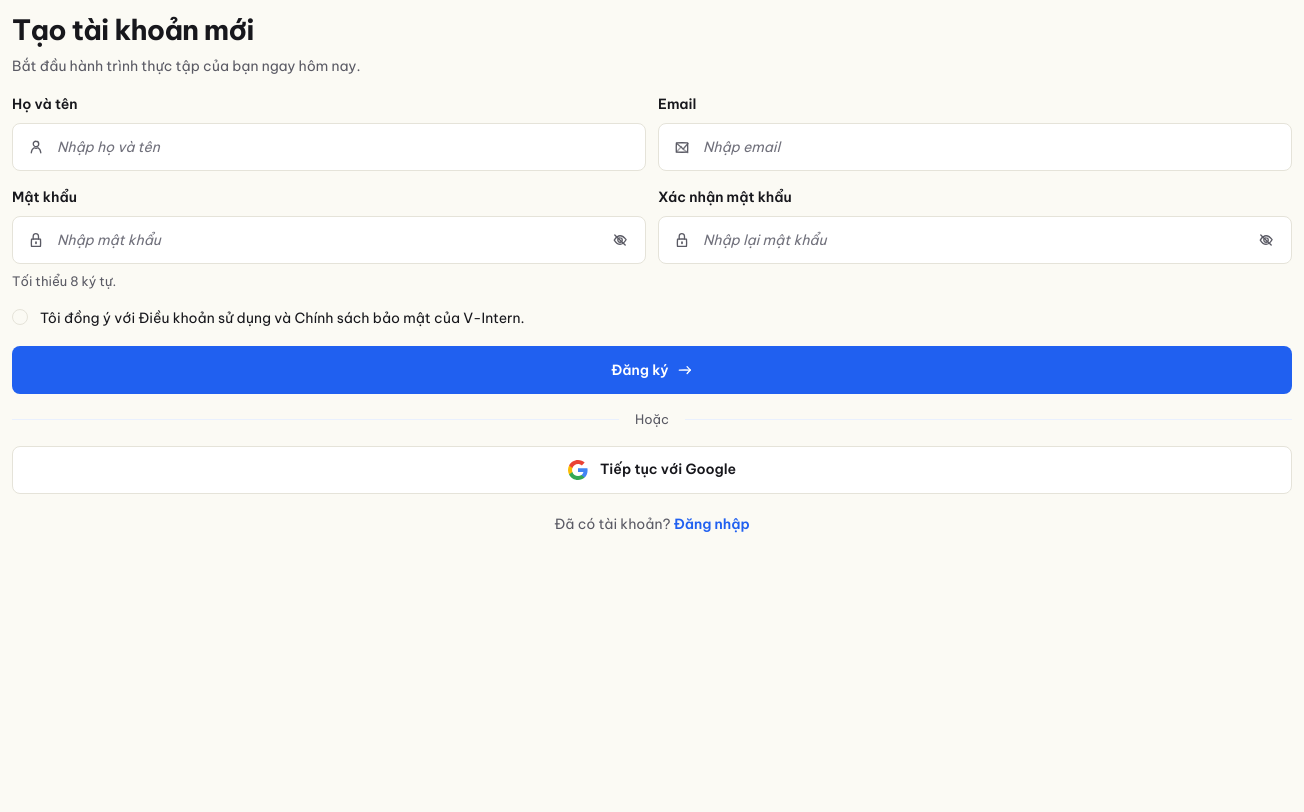
RegisterForm › email sai định dạng → báo 'Email không đúng định dạng.'
The image size is (1304, 812).
Type "Nguyễn Văn A" into the field labelled "Họ và tên" at (329, 147), box 12,123 -> 646,171
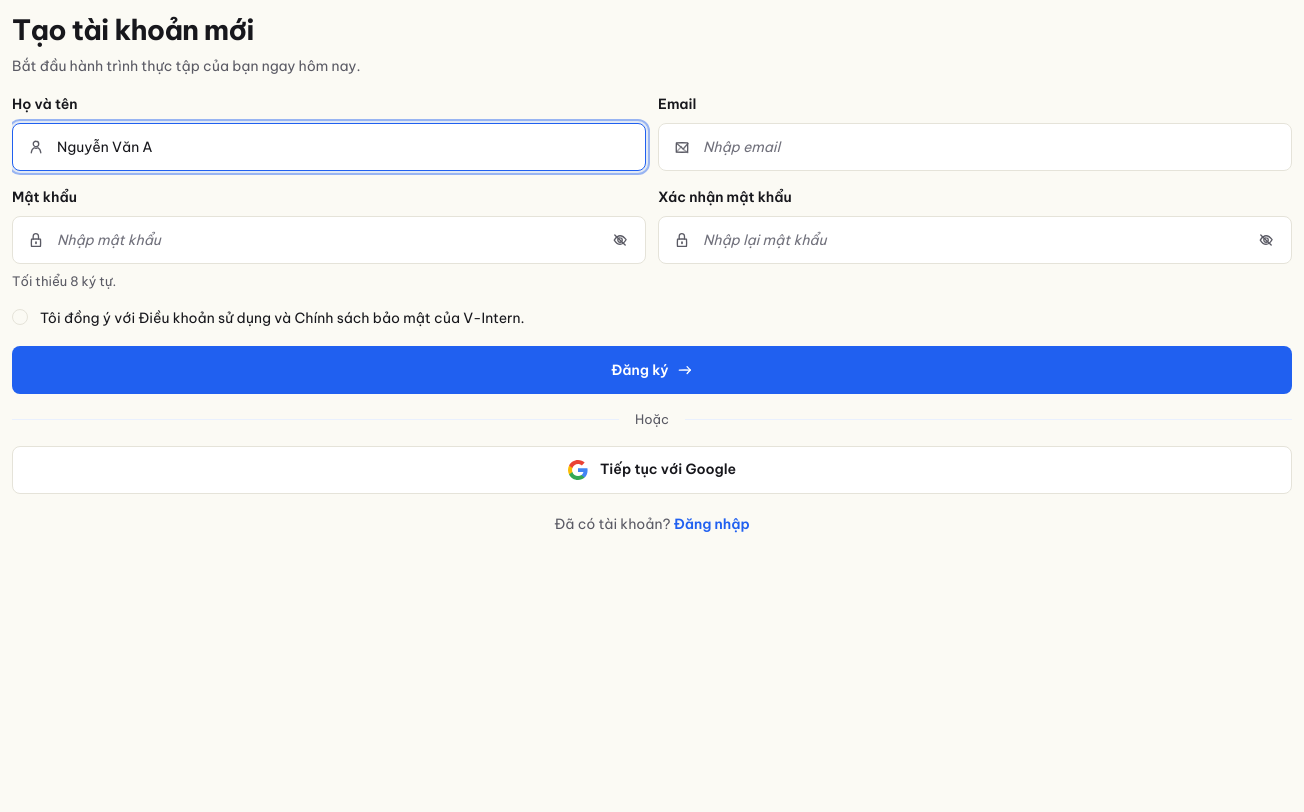
Type "email-khong-dung" into the field labelled "Email" at (975, 147), box 658,123 -> 1292,171
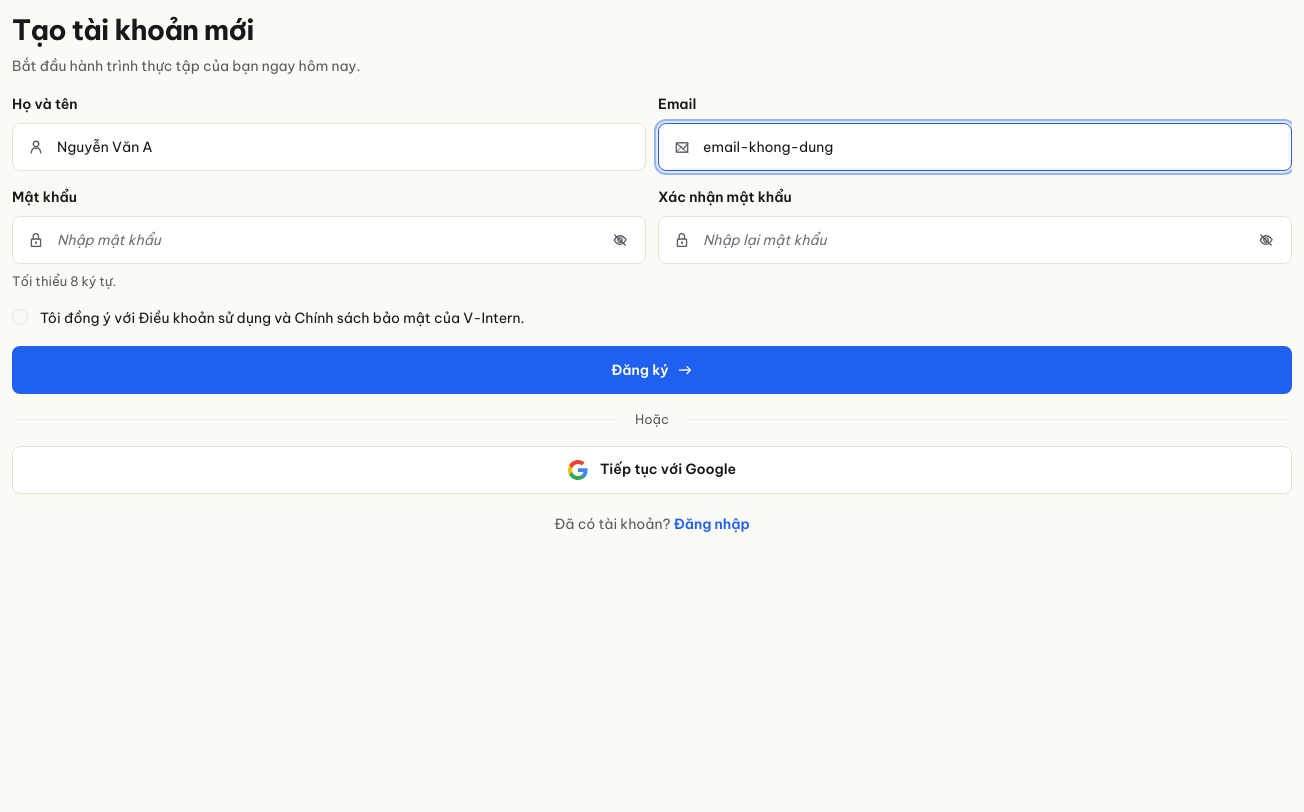
Type "matkhau123" into the password field labelled "Mật khẩu" at (329, 240), box 12,216 -> 646,264
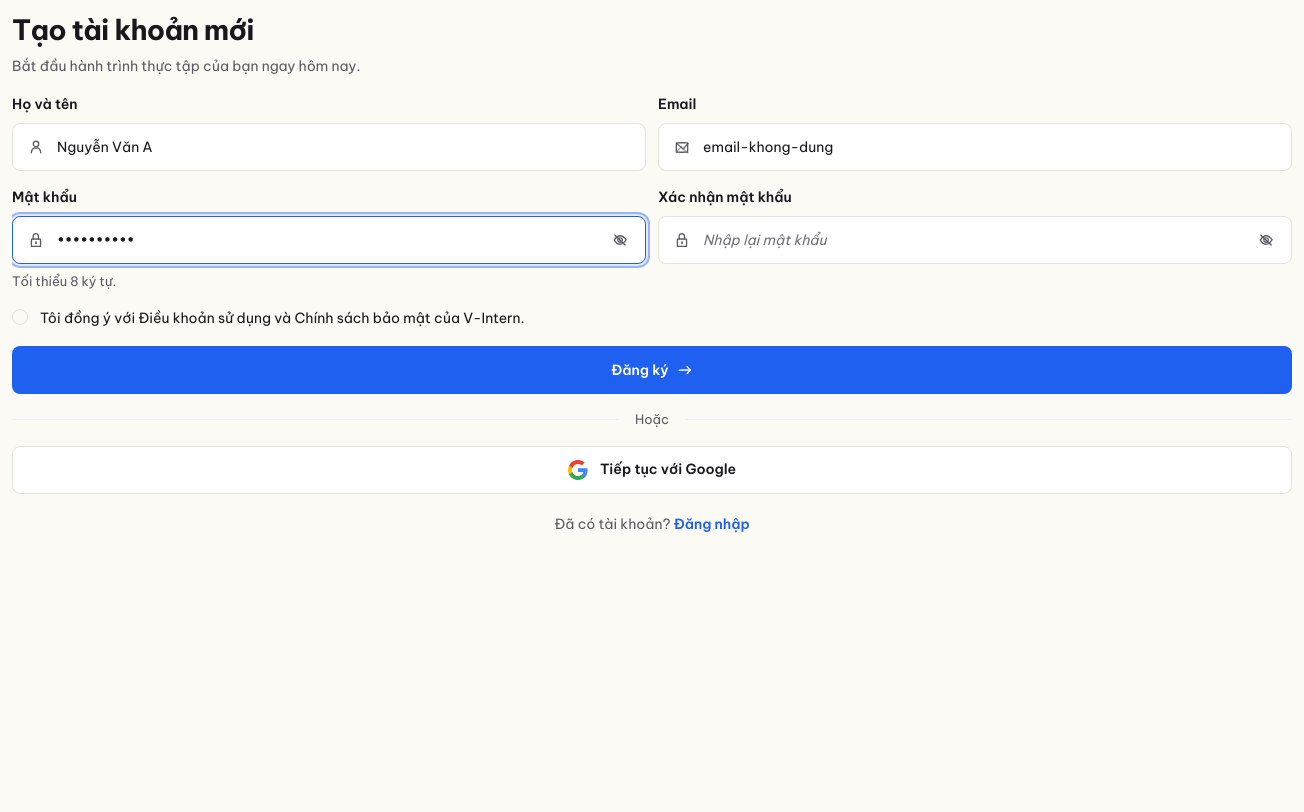
Type "matkhau123" into the password field labelled "Xác nhận mật khẩu" at (975, 240), box 658,216 -> 1292,264
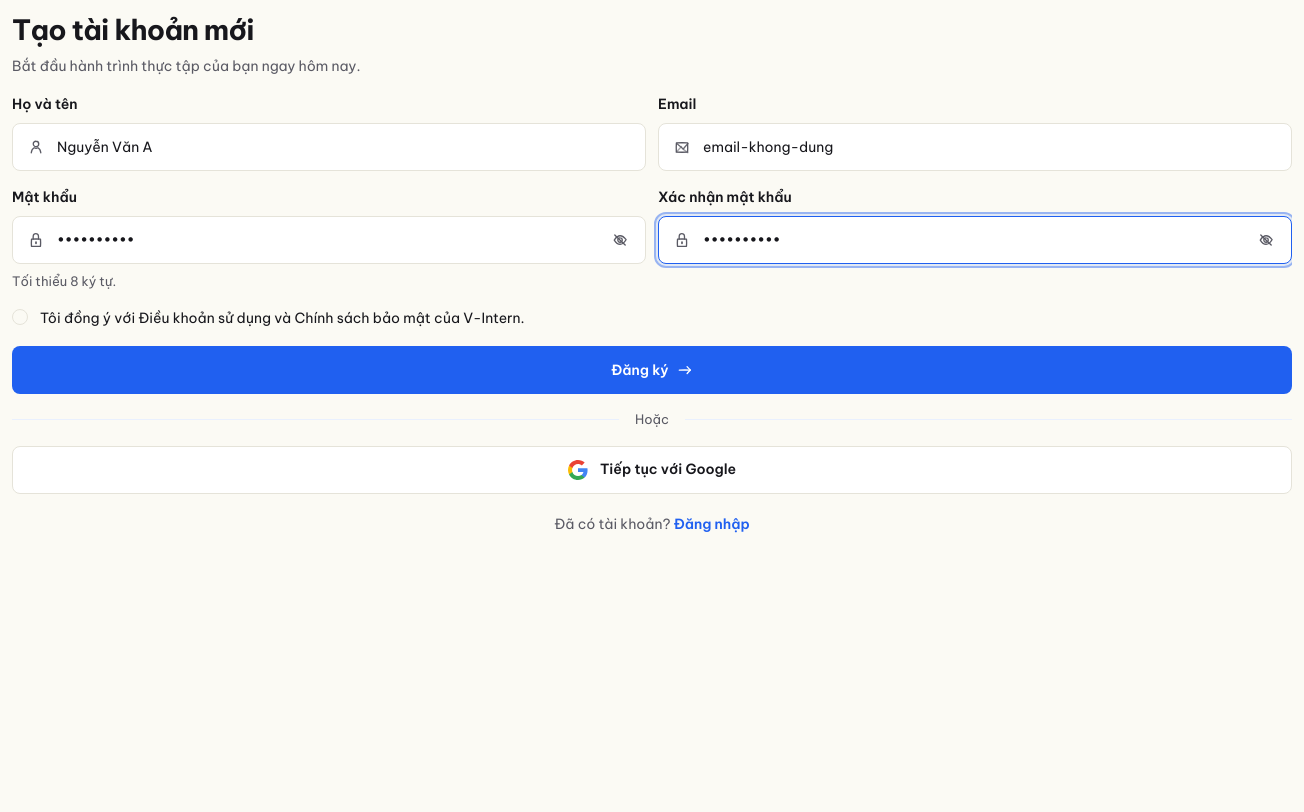
Click the checkbox labelled "Tôi đồng ý với Điều khoản" at (268, 318), box 12,309 -> 524,327
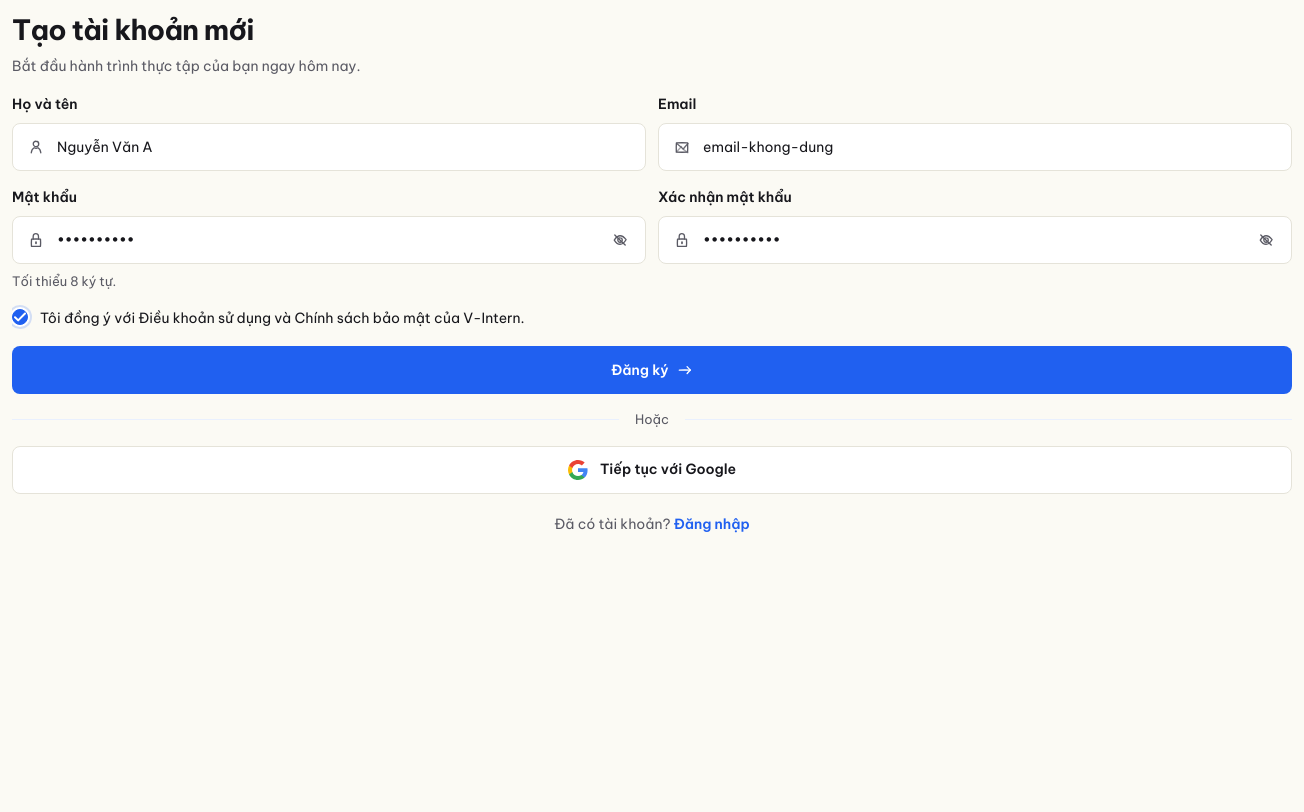
Click the button "Đăng ký" at (652, 370), box 12,346 -> 1292,394
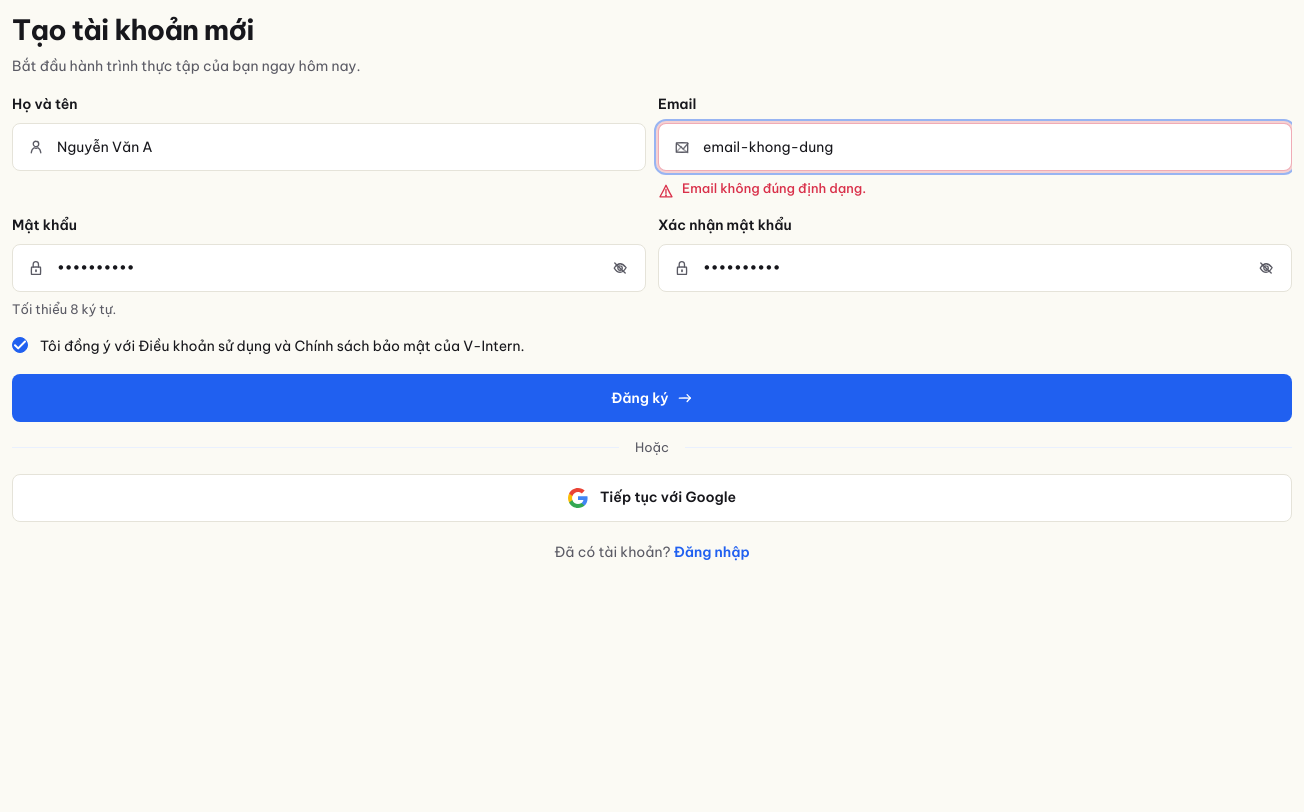
Check: the text "Email không đúng định dạng." is shown, box 658,180 -> 866,199
